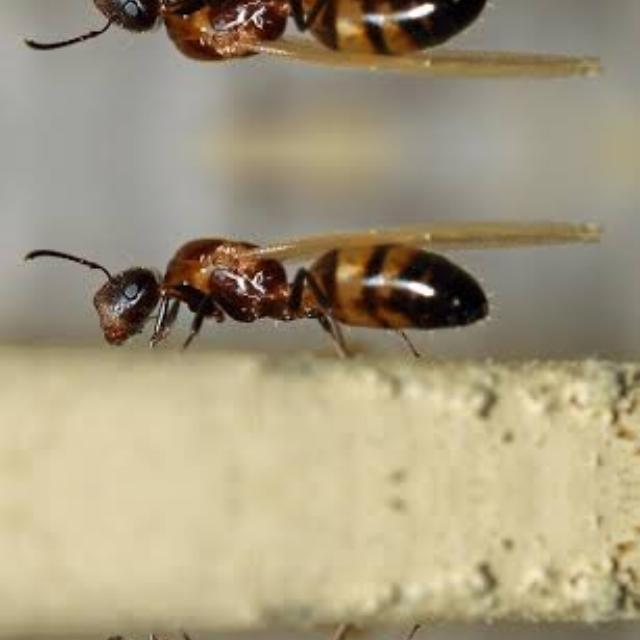Colobopsis: (20, 210, 522, 366), (20, 0, 522, 88)
